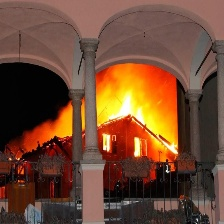fire: (95, 92, 179, 156)
smoke: (21, 86, 83, 142)
